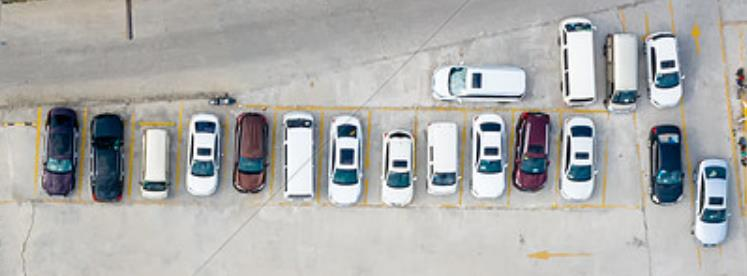car: (428, 58, 528, 104), (556, 12, 600, 108), (86, 111, 129, 203), (641, 29, 689, 111), (691, 155, 733, 246), (41, 101, 80, 198), (327, 115, 368, 207), (279, 109, 320, 200), (512, 109, 553, 194), (602, 30, 643, 115), (560, 114, 600, 201), (647, 122, 687, 208), (230, 109, 270, 193), (184, 111, 223, 196), (470, 110, 508, 196), (379, 126, 417, 208), (424, 118, 462, 198), (136, 126, 175, 200)
